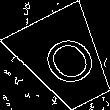O_SE: (30, 28, 100, 93)
